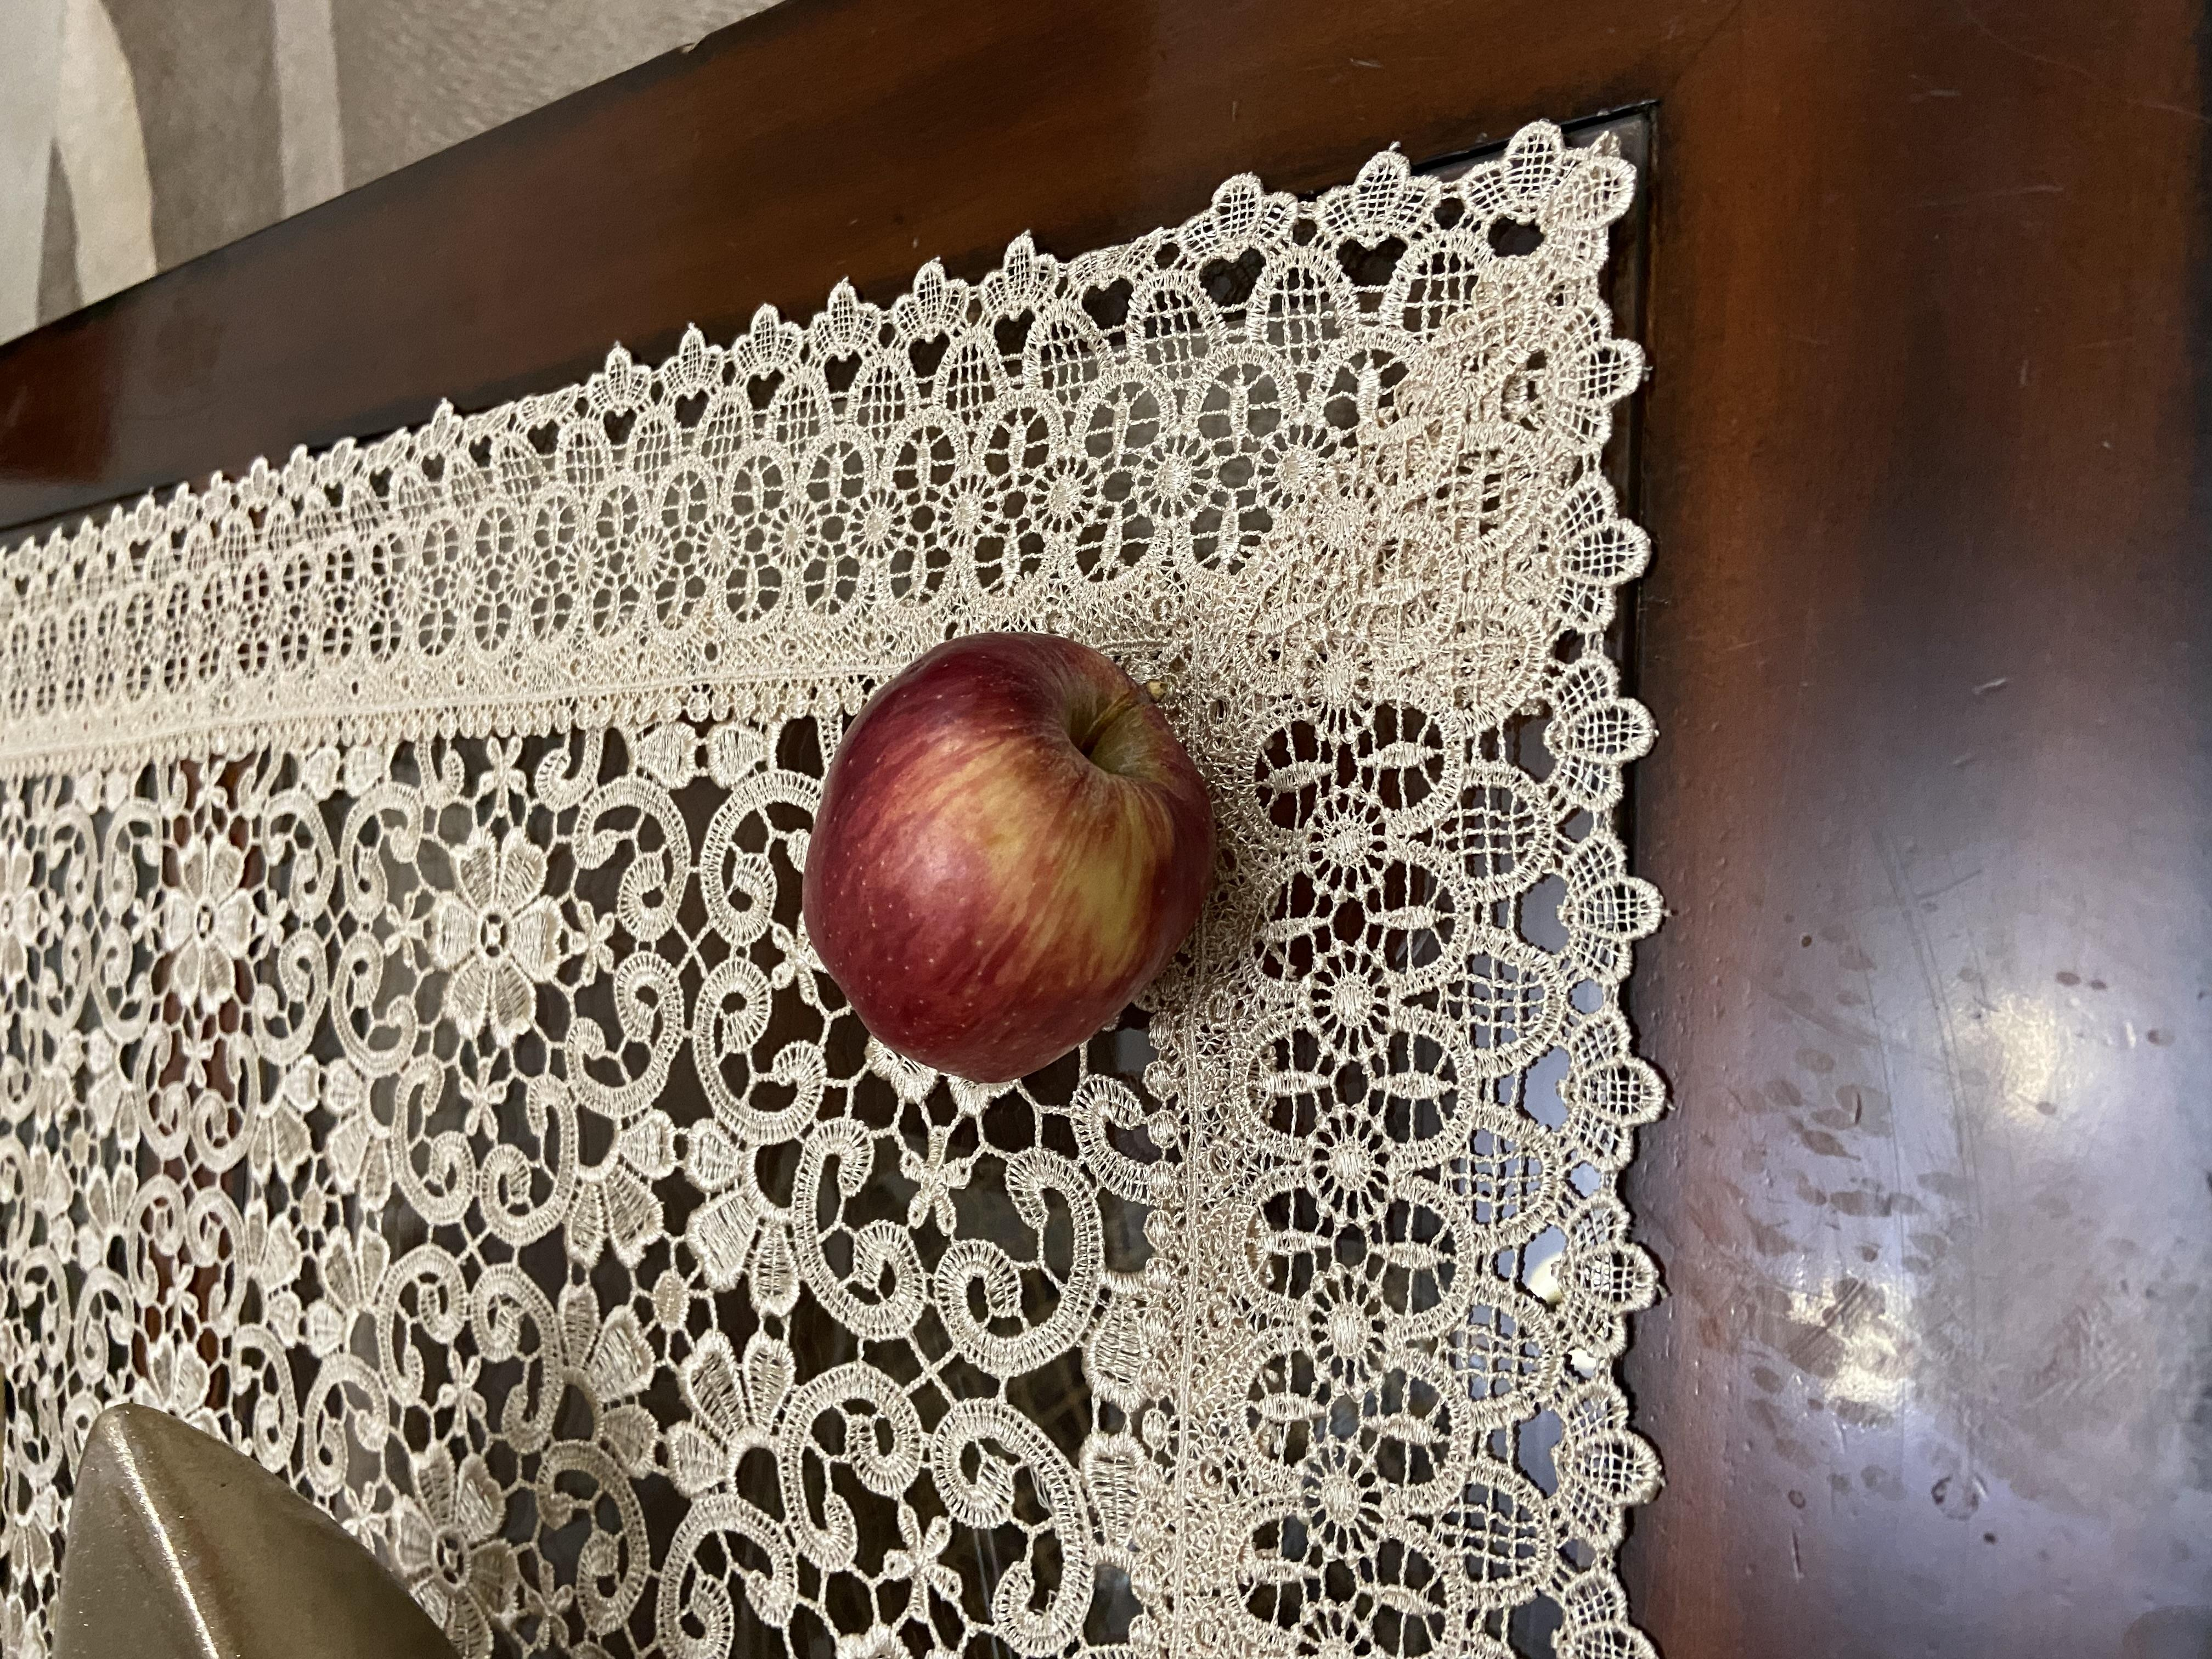Apple: (772, 596, 1399, 931)
